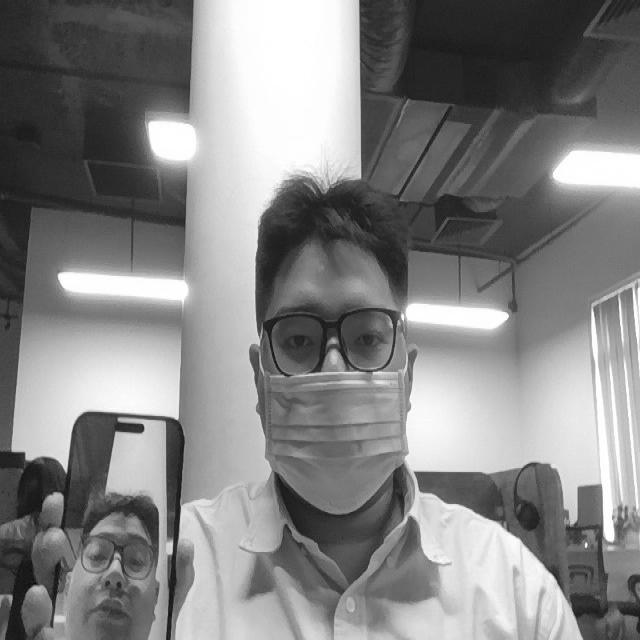fake: (55, 396, 187, 640), (264, 366, 411, 515), (63, 494, 160, 640)
real: (248, 167, 420, 521), (267, 300, 401, 371)
